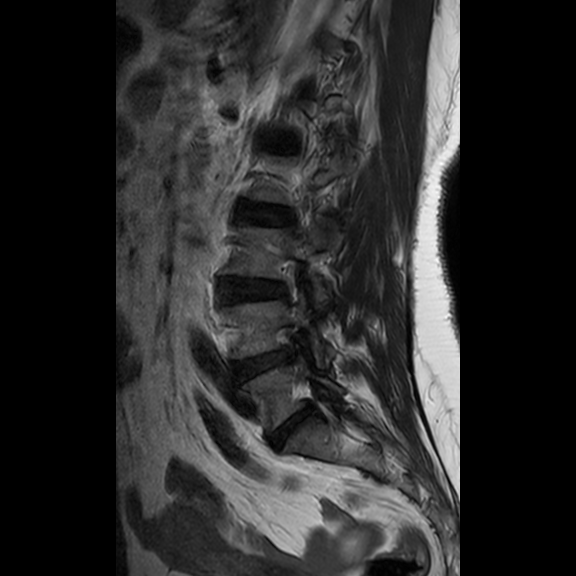LFS0: (266, 247, 312, 313)
